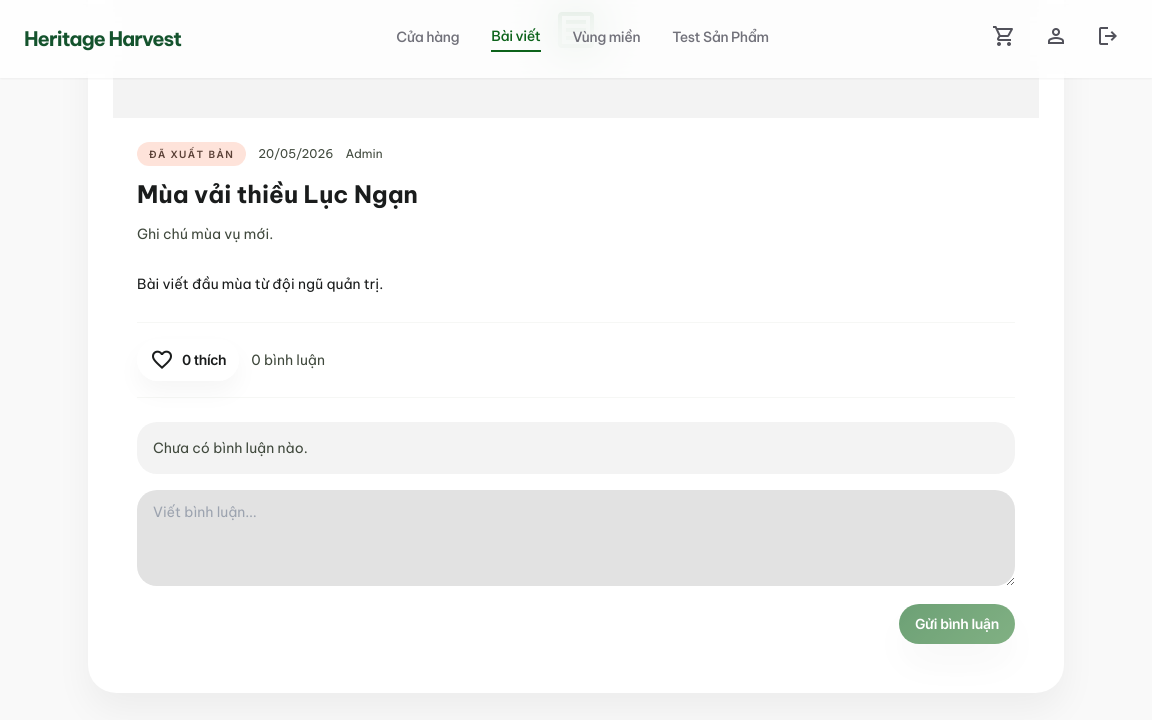
Test: customer commerce routes › lets a backend customer like and comment on a story post
(page scrolled)
Expected: the heading "Mùa vải thiều Lục Ngạn" is shown, [137, 179, 418, 209]
Click the button "0 thích": (188, 360) [137, 339, 239, 381]
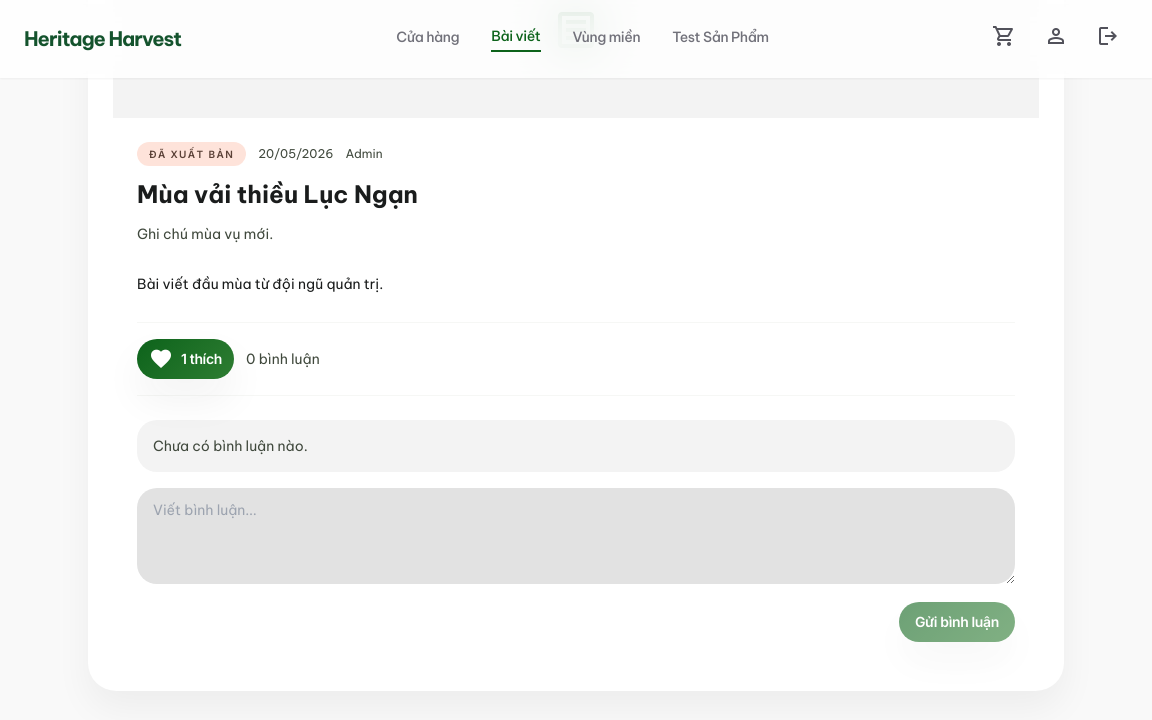
Expected: the button "1 thích" is shown, [137, 339, 234, 379]
In the text box with placeholder "Viết bình luận...": (576, 536) [137, 488, 1015, 584], type "Bài viết rất hữu ích"
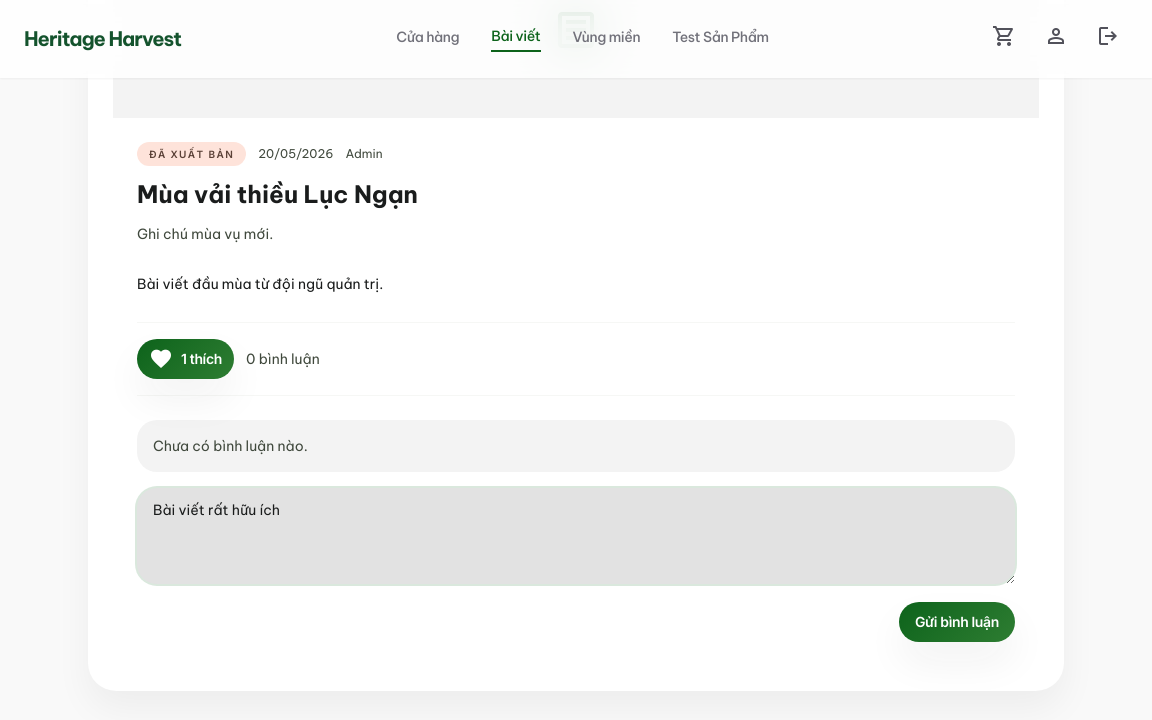
Click the button "Gửi bình luận": (957, 622) [899, 602, 1015, 642]
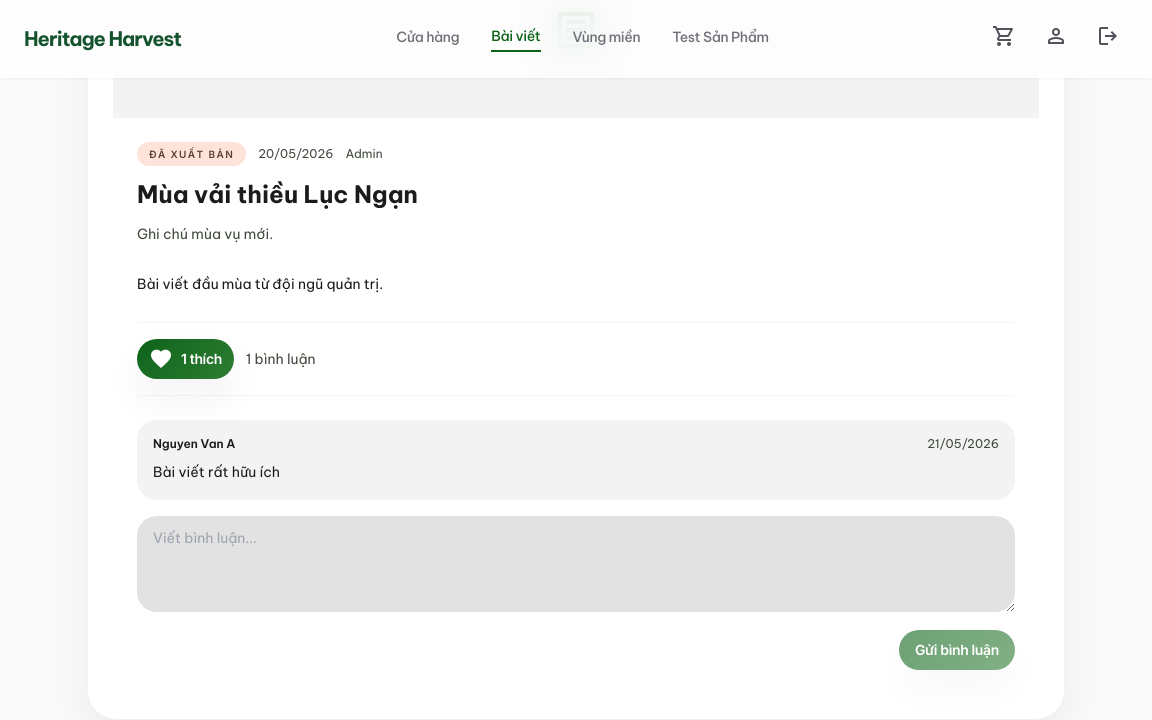
Expected: the text "Bài viết rất hữu ích" is shown, [153, 463, 280, 481]
